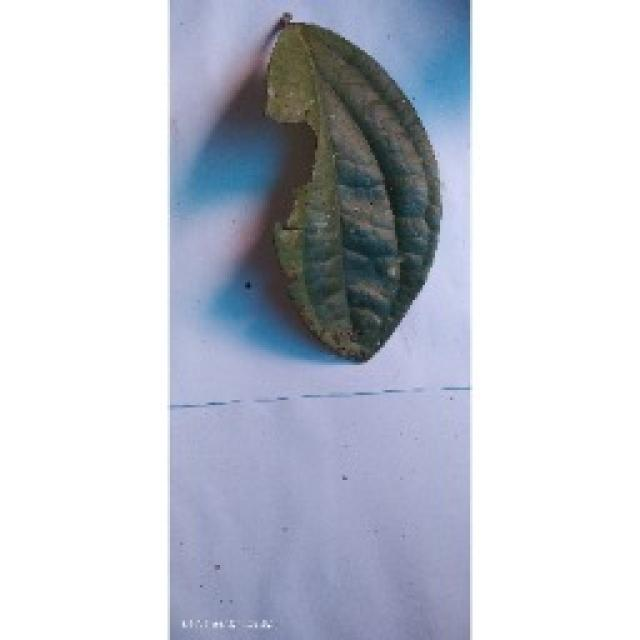slow-decline: (260, 15, 445, 363)
